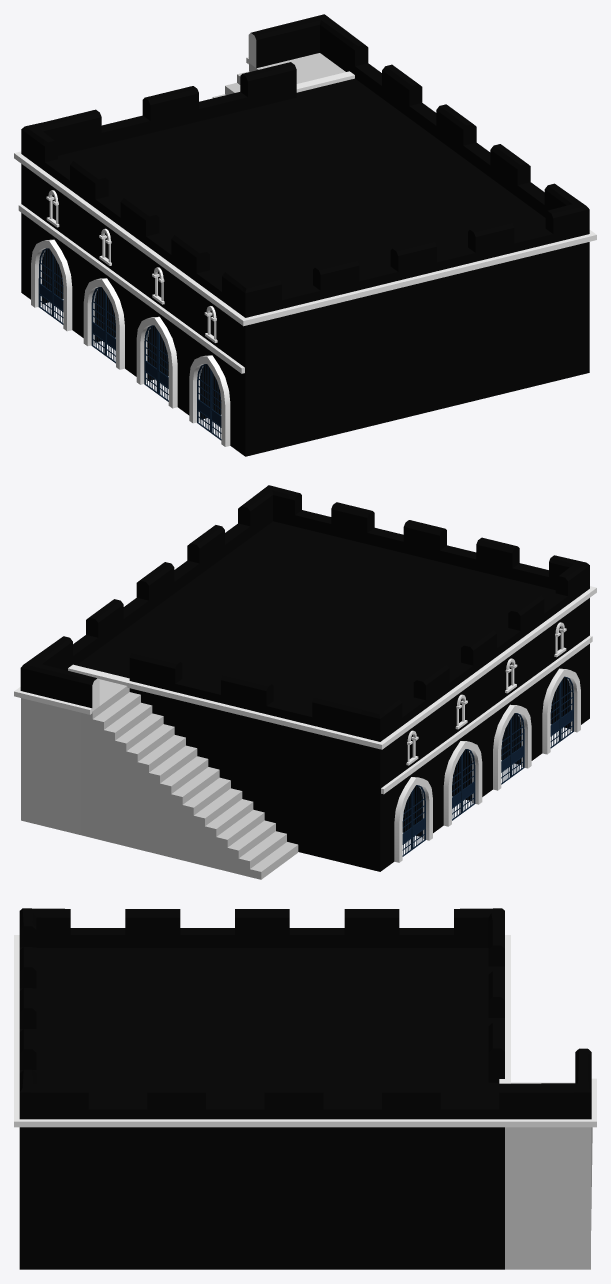
The model's file is building_base_a.FBX.
3 renders of one model, top to bottom at view 1: azimuth 30°, elevation 25°; view 2: azimuth 150°, elevation 25°; view 3: azimuth 270°, elevation 25°, orthographic. The views are drawn at different scales.
Visible parts, largest first — view 1: building_base_a; view 2: building_base_a; view 3: building_base_a.
Boxes of the visible parts, box(x1,y1,x2,y2) form: building_base_a: box(14, 14, 596, 456); building_base_a: box(14, 485, 596, 879); building_base_a: box(14, 908, 596, 1269).
Size of the model in its own units: 2736 by 1232 by 3604.
